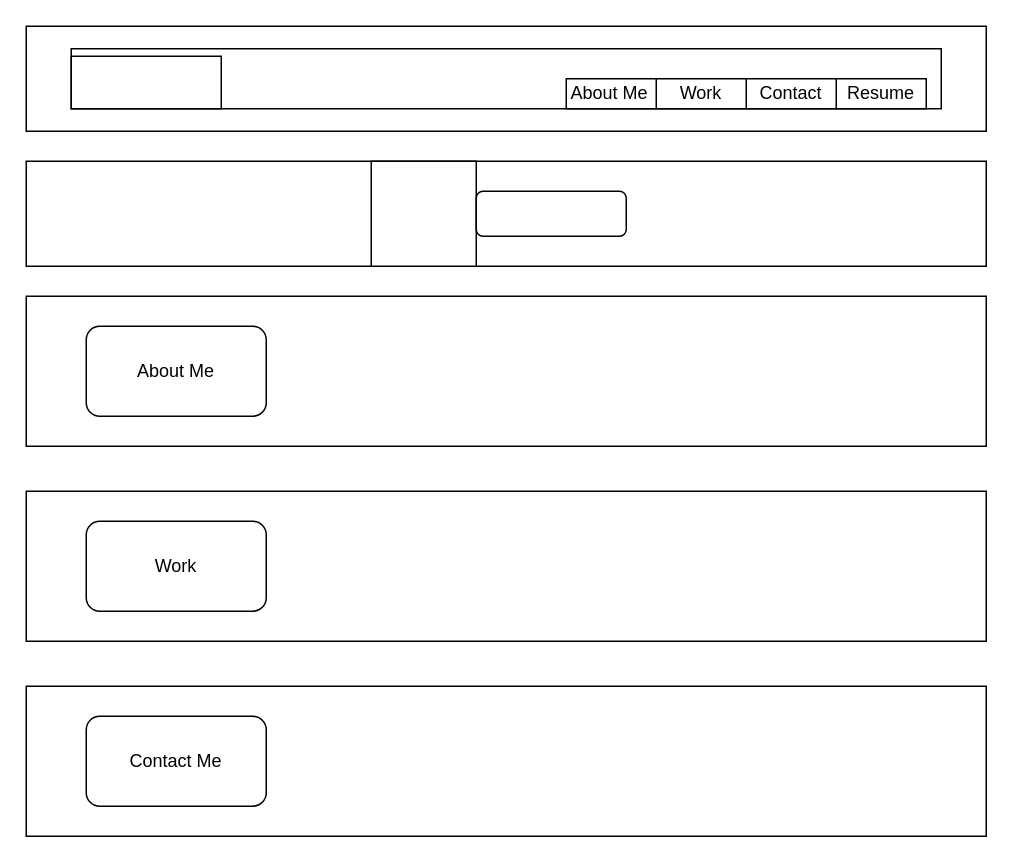
Image size: 1013x863. Some labels were removed from this diagram. Each missing label, with the centre of its shape:
"hello!" goes at (550,213).
"Jamie Otto" goes at (145,82).
"Photo" goes at (423,213).
